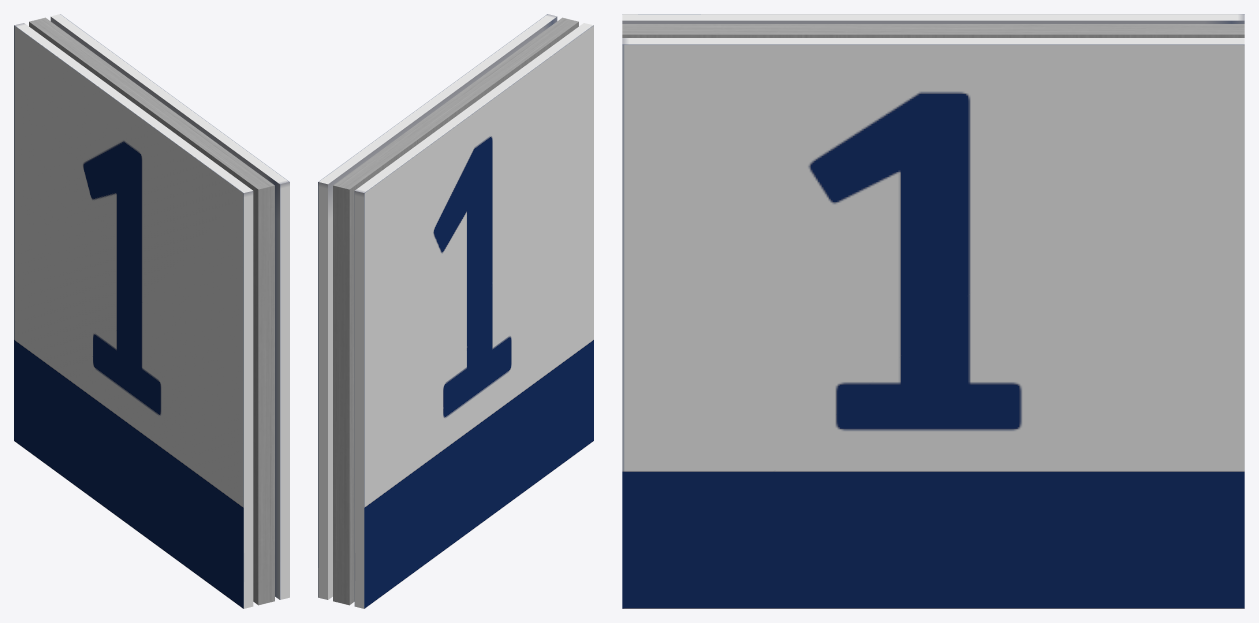
Rendered from scotrail_platform_1.obj.
3 renders of one model, left to right at view 1: azimuth 30°, elevation 25°; view 2: azimuth 150°, elevation 25°; view 3: azimuth 270°, elevation 25°, orthographic. The views are drawn at different scales.
Parts seen in each view (by area): view 1: cube; view 2: cube; view 3: cube.
Part boxes in pixels (x1,y1,x2,y2): cube: (14,14,289,608); cube: (318,14,593,608); cube: (622,14,1244,608).
Size of the model in its own units: 0.0438 by 0.375 by 0.375.
Materials: 2 (2 with a texture image).
